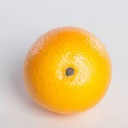orange: (20, 26, 114, 116)
